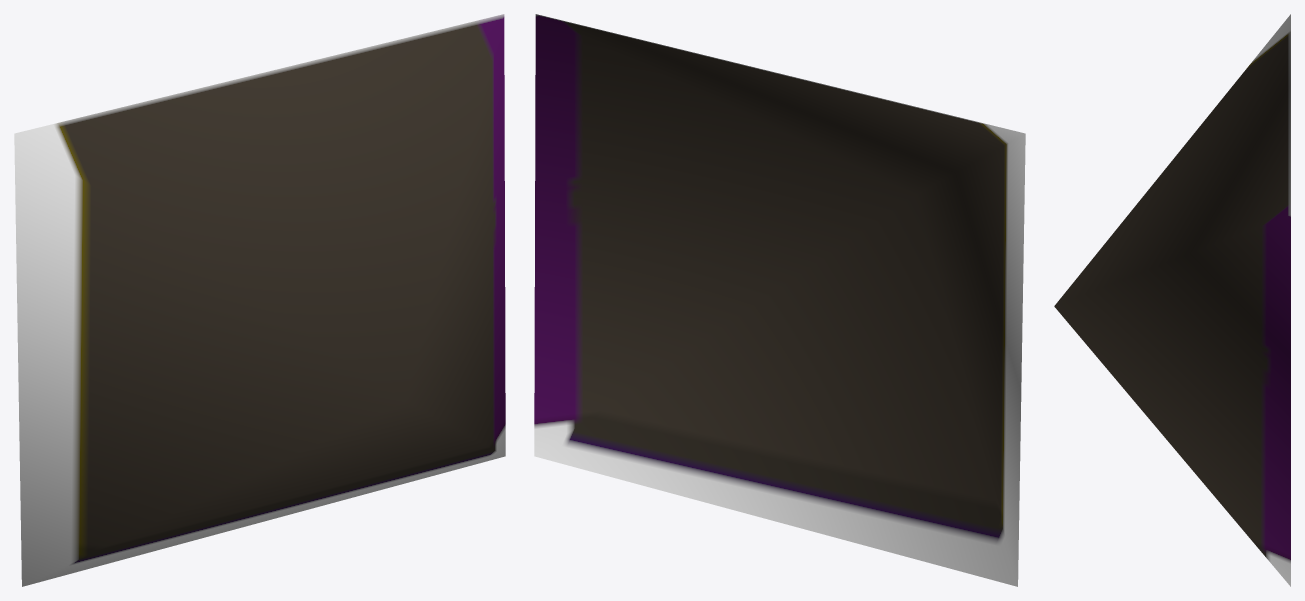
The model's file is Julebu_Deng10_fbx.FBX.
3 renders of one model, left to right at view 1: azimuth 30°, elevation 25°; view 2: azimuth 150°, elevation 25°; view 3: azimuth 270°, elevation 25°, orthographic. The views are drawn at different scales.
Visible parts, largest first — view 1: Object071; view 2: Object071; view 3: Object071.
Boxes of the visible parts, <box> form: Object071: <box>14,14,505,586</box>; Object071: <box>534,14,1025,586</box>; Object071: <box>1054,14,1290,586</box>.
Size of the model in its own units: 1.82 by 1.61 by 0.9033.
